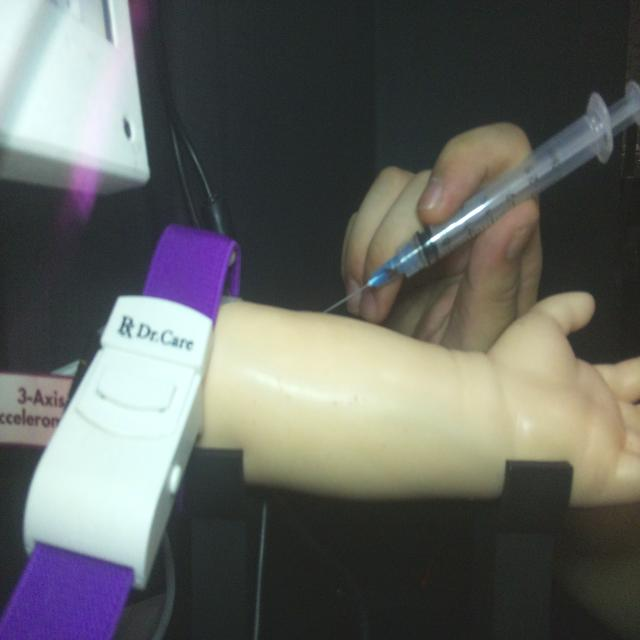23 degrees: (320, 78, 638, 316)
